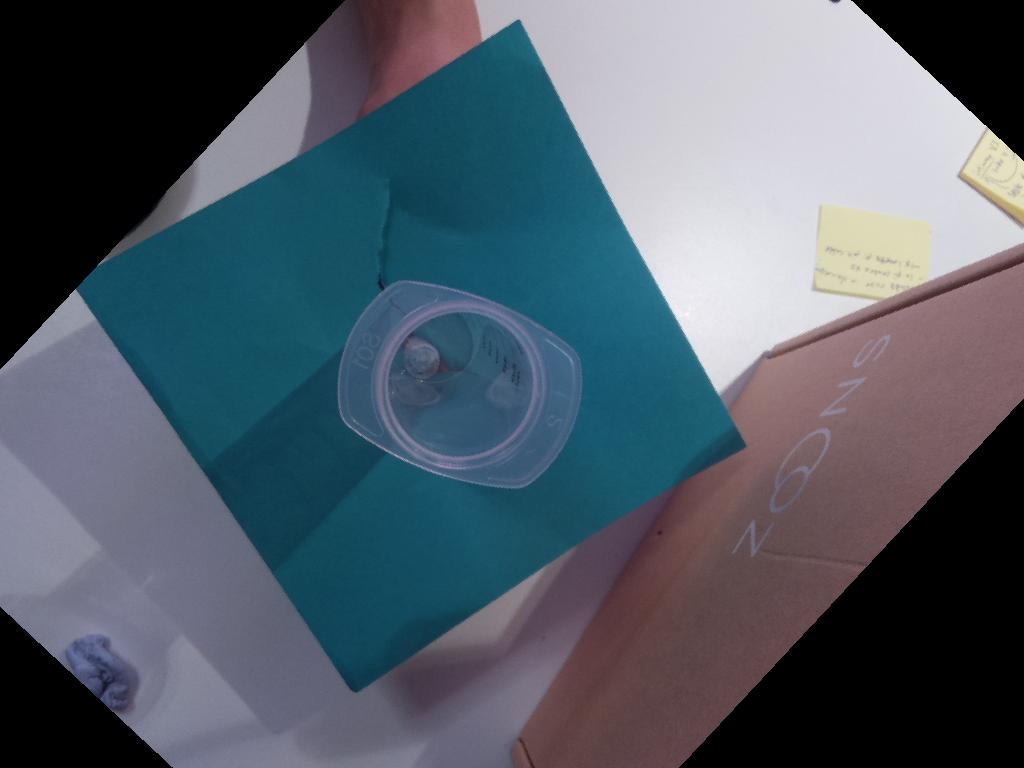clean: (338, 279, 584, 490)
